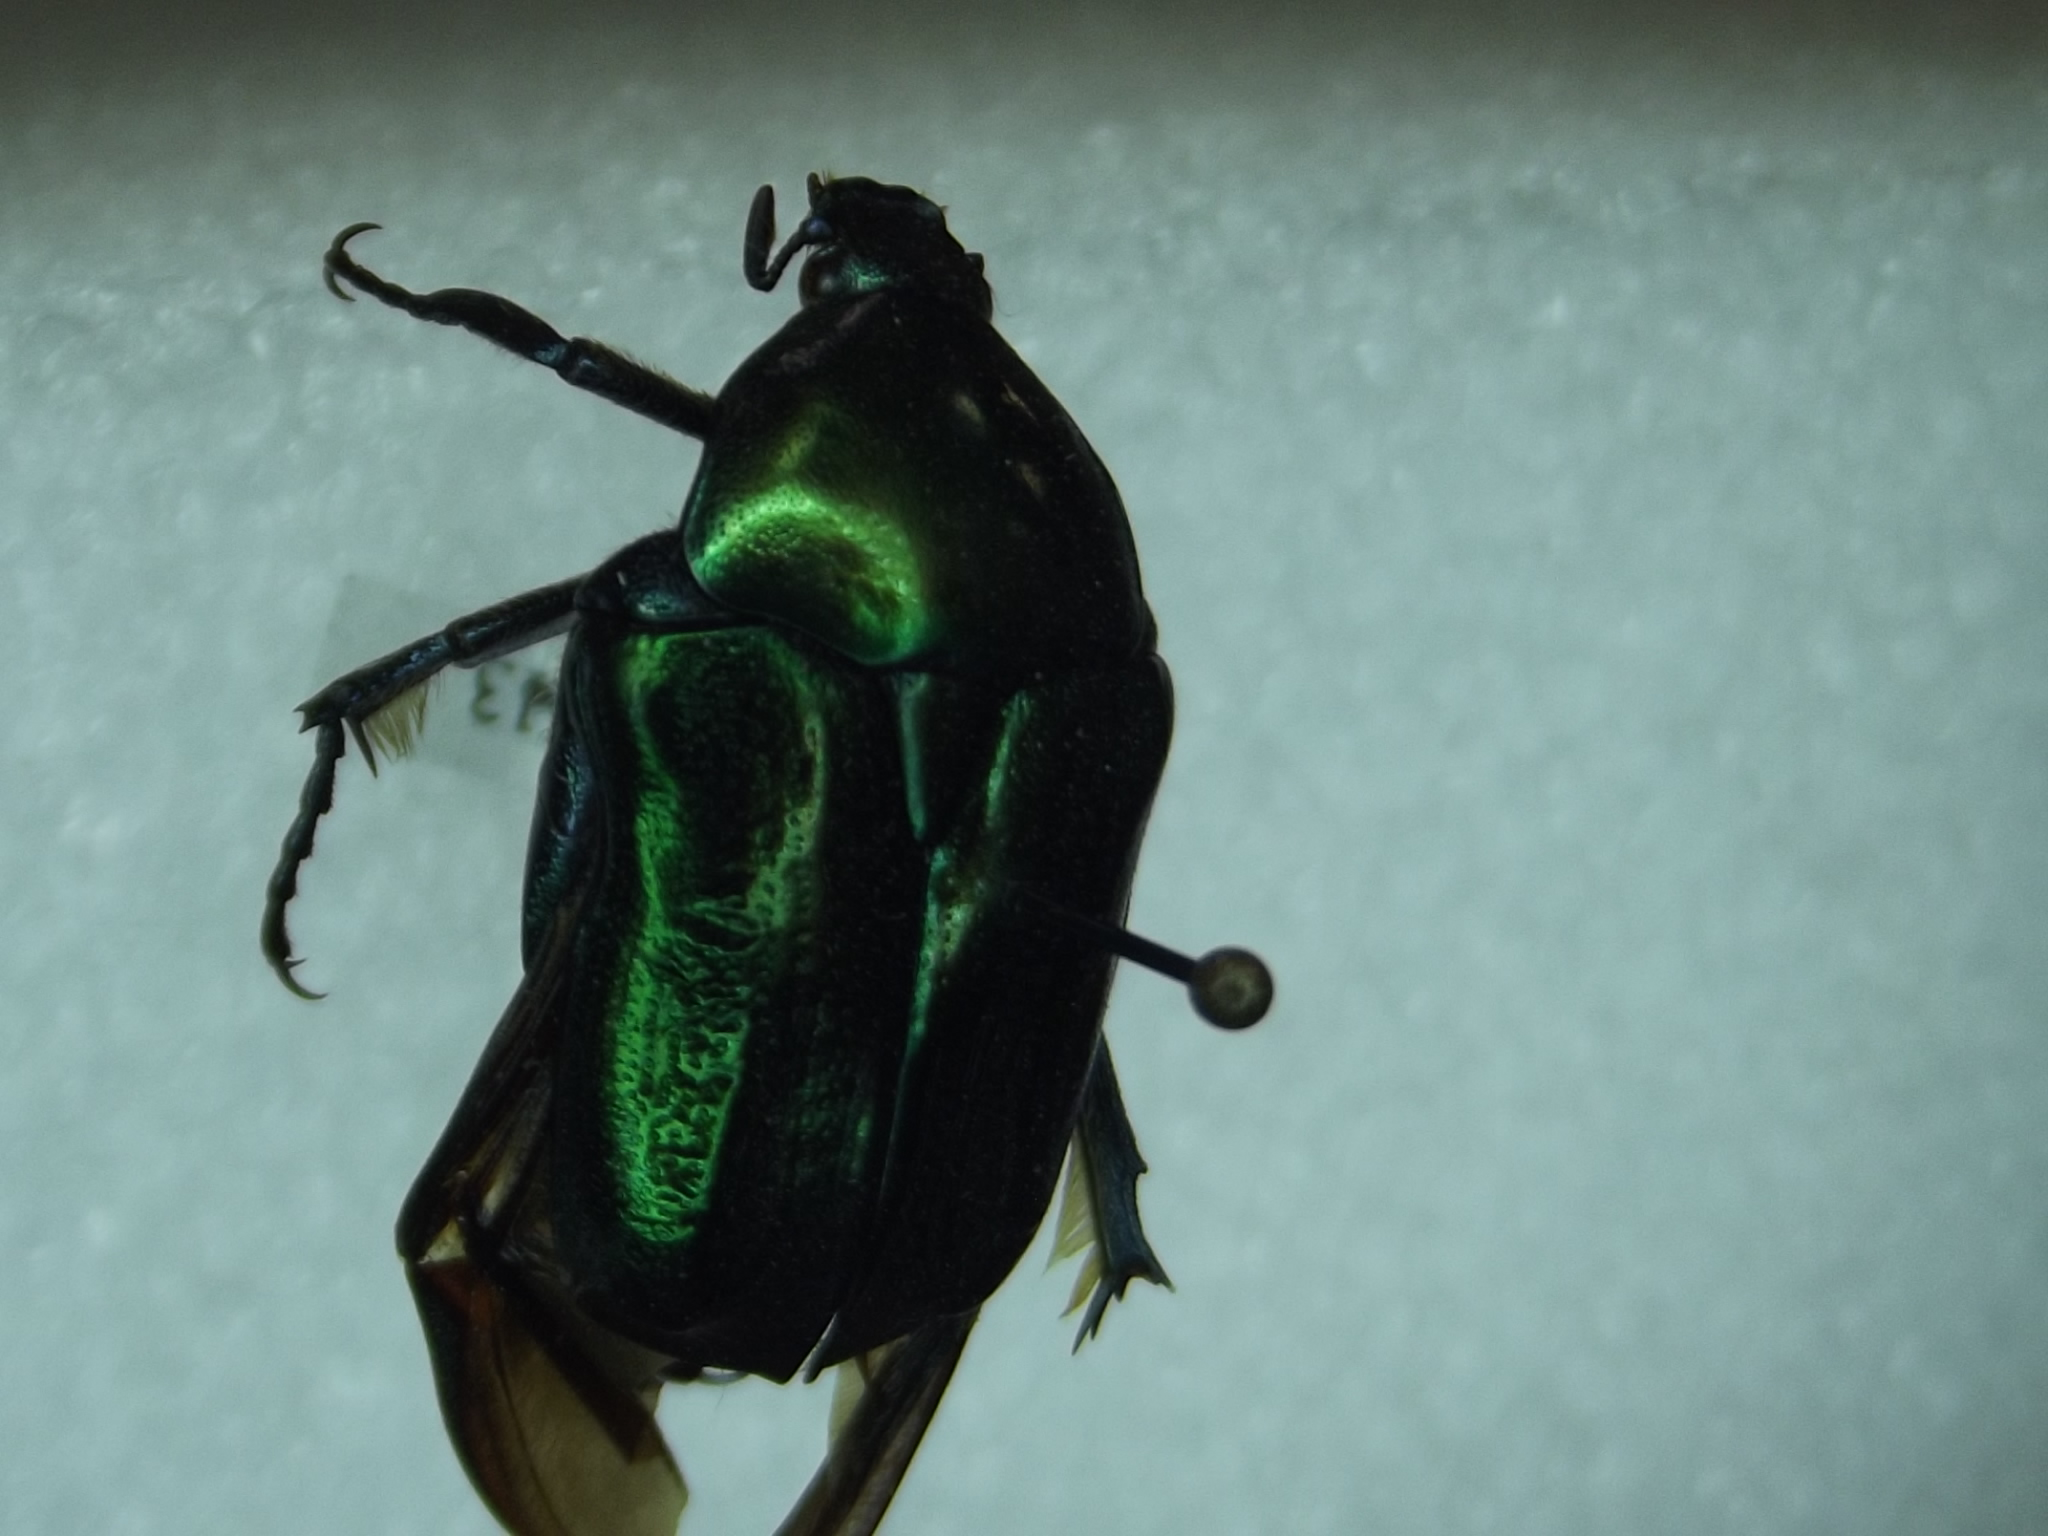Protaetia_angustata_angustata: (255, 144, 1179, 1536)
